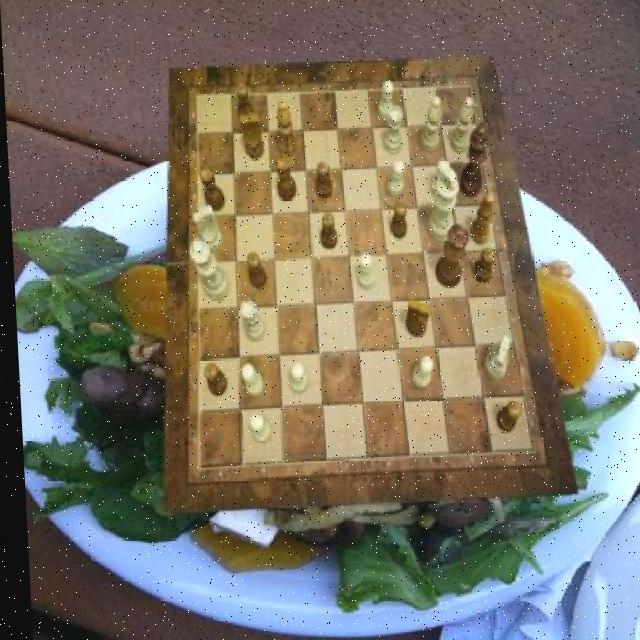bishop: (466, 192, 496, 246), (275, 100, 295, 158)
black-bishop: (456, 122, 491, 199)
black-king: (239, 112, 263, 158), (402, 300, 429, 338)
black-knight: (470, 248, 495, 282), (492, 401, 517, 434), (201, 363, 225, 397), (244, 252, 265, 290), (236, 84, 255, 124), (387, 202, 406, 239), (316, 212, 335, 248), (315, 162, 332, 199)
black-pawn: (431, 224, 469, 288)
black-queen: (198, 166, 224, 212), (274, 154, 296, 200)
black-rook: (447, 97, 474, 153), (418, 97, 443, 153)
white-bishop: (424, 168, 460, 242)
white-king: (190, 206, 221, 252), (480, 335, 509, 381)
white-knight: (428, 160, 450, 198), (236, 363, 260, 397), (407, 357, 431, 389), (354, 252, 373, 290), (376, 80, 394, 120), (385, 159, 404, 196), (284, 361, 305, 394), (244, 414, 266, 441)
white-pawn: (185, 238, 227, 301)
white-queen: (380, 106, 403, 154), (237, 300, 262, 342)
